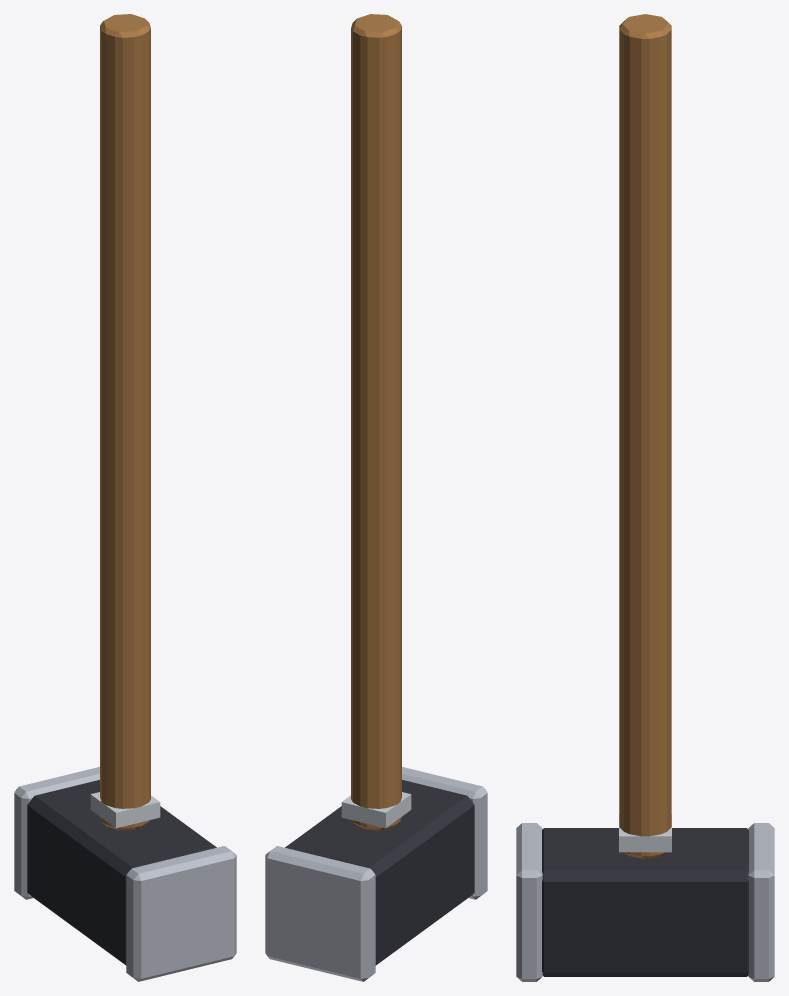
The model's file is Sledge.glb.
3 views of the same model, side by side, from view 1: azimuth 30°, elevation 25°; view 2: azimuth 150°, elevation 25°; view 3: azimuth 270°, elevation 25° (orthographic). The views are drawn at different scales.
Parts seen in each view (by area): view 1: Body, Head; view 2: Body, Head; view 3: Body, Head.
Boxes of the visible parts, <box> form: Body: <box>90,14,160,830</box>; Head: <box>14,767,236,981</box>; Body: <box>341,14,411,830</box>; Head: <box>265,767,487,981</box>; Body: <box>619,14,671,858</box>; Head: <box>516,823,774,981</box>.
Size of the model in its own units: 0.084 by 0.702 by 0.176.
